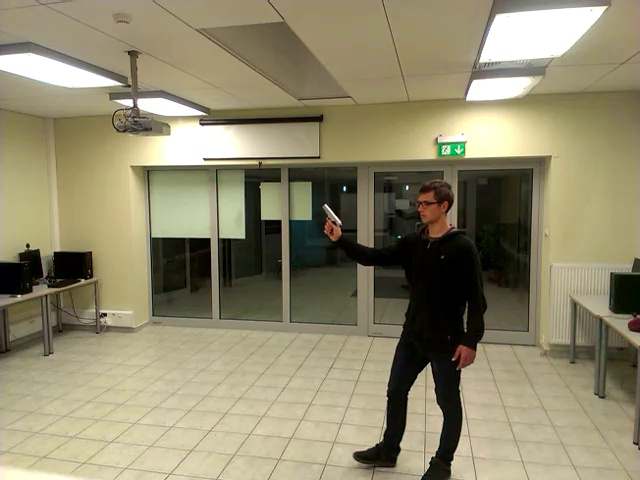gun: (314, 186, 364, 260)
